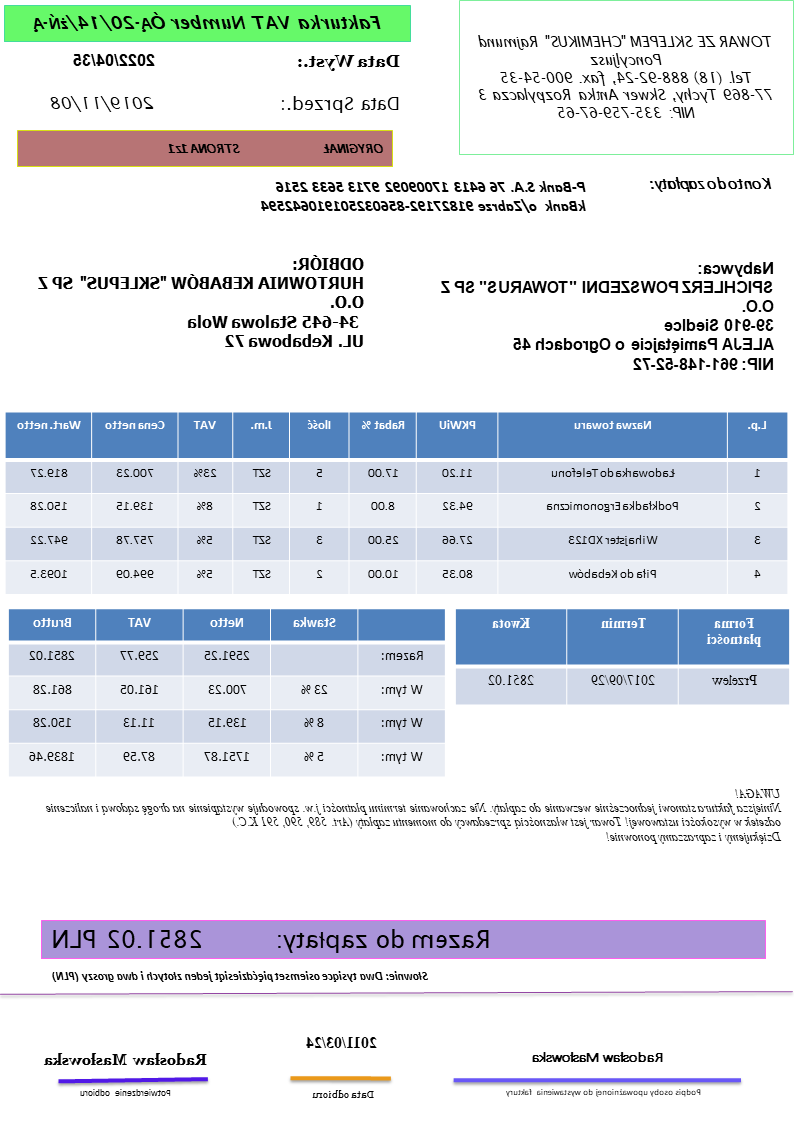Table: (5, 408, 790, 594), (8, 605, 449, 777), (456, 608, 790, 705)
TextBox: (40, 782, 782, 847), (436, 256, 778, 375), (33, 252, 369, 352), (473, 27, 779, 124), (50, 924, 493, 956), (255, 176, 591, 217), (29, 10, 387, 37), (48, 965, 432, 987), (163, 138, 389, 160), (43, 1049, 211, 1071), (501, 1082, 704, 1100), (647, 170, 777, 196), (277, 92, 404, 117), (46, 91, 158, 115), (293, 50, 404, 74), (528, 1047, 668, 1065), (71, 48, 159, 70), (302, 1032, 383, 1053), (76, 1085, 173, 1101), (309, 1085, 378, 1103)
